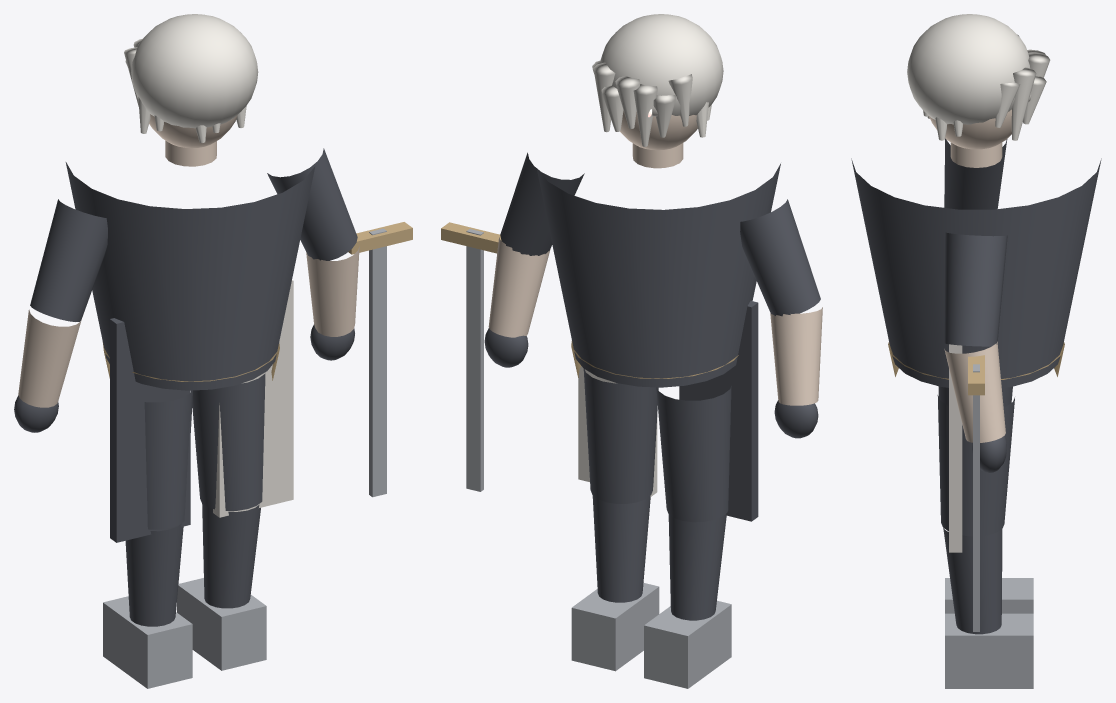
Rendered from achero-procedural-v1.glb.
The picture shows the model from 3 angles, left to right: view 1: azimuth 30°, elevation 25°; view 2: azimuth 150°, elevation 25°; view 3: azimuth 270°, elevation 25°; orthographic projection. The views are drawn at different scales.
Parts seen in each view (by area): view 1: Outfit_Torso, Hair_Cap, Outfit_CoatTail_L, Body_Thigh_R, Body_UpperArm_L, Outfit_CoatTail_R, Outfit_Boot_L, Body_Thigh_L, Outfit_Boot_R, Body_Shin_R, Body_Shin_L, Weapon_SwordBlade (+8 smaller); view 2: Outfit_Torso, Body_Thigh_L, Body_Thigh_R, Hair_Cap, Outfit_CoatTail_L, Body_UpperArm_L, Outfit_Boot_L, Outfit_Boot_R, Body_Shin_R, Body_Shin_L, Weapon_SwordBlade, Body_Forearm_L (+14 smaller); view 3: Outfit_Torso, Hair_Cap, Body_UpperArm_R, Outfit_Boot_R, Body_Thigh_R, Body_Shin_R, Body_Forearm_R, Body_UpperArm_L, Outfit_CoatTail_R, Weapon_SwordBlade, Body_Head, Outfit_Boot_L (+8 smaller).
Part boxes in pixels (left/top/right/bottom): Outfit_Torso: left=65, top=162, right=315, bottom=390; Hair_Cap: left=131, top=14, right=258, bottom=128; Outfit_CoatTail_L: left=110, top=318, right=190, bottom=542; Body_Thigh_R: left=191, top=373, right=265, bottom=510; Body_UpperArm_L: left=30, top=199, right=107, bottom=321; Outfit_CoatTail_R: left=213, top=280, right=293, bottom=517; Outfit_Boot_L: left=103, top=596, right=192, bottom=688; Body_Thigh_L: left=144, top=390, right=192, bottom=529; Outfit_Boot_R: left=177, top=578, right=266, bottom=670; Body_Shin_R: left=202, top=503, right=260, bottom=608; Body_Shin_L: left=125, top=523, right=183, bottom=626; Weapon_SwordBlade: left=369, top=228, right=386, bottom=497; Outfit_Torso: left=536, top=163, right=780, bottom=387; Body_Thigh_L: left=656, top=386, right=731, bottom=522; Body_Thigh_R: left=583, top=369, right=658, bottom=503; Hair_Cap: left=600, top=14, right=723, bottom=115; Outfit_CoatTail_L: left=679, top=301, right=758, bottom=521; Body_UpperArm_L: left=740, top=199, right=820, bottom=316; Outfit_Boot_L: left=644, top=600, right=731, bottom=688; Outfit_Boot_R: left=571, top=583, right=659, bottom=671; Body_Shin_R: left=592, top=495, right=650, bottom=602; Body_Shin_L: left=668, top=514, right=726, bottom=620; Weapon_SwordBlade: left=466, top=229, right=483, bottom=491; Body_Forearm_L: left=770, top=307, right=822, bottom=405; Outfit_Torso: left=851, top=158, right=1101, bottom=387; Hair_Cap: left=907, top=14, right=1030, bottom=124; Body_UpperArm_R: left=944, top=232, right=1007, bottom=346; Outfit_Boot_R: left=945, top=613, right=1033, bottom=688; Body_Thigh_R: left=937, top=395, right=1014, bottom=536; Body_Shin_R: left=943, top=528, right=1002, bottom=634; Body_Forearm_R: left=944, top=341, right=1005, bottom=442; Body_UpperArm_L: left=944, top=138, right=1007, bottom=209; Outfit_CoatTail_R: left=949, top=344, right=962, bottom=552; Weapon_SwordBlade: left=973, top=364, right=979, bottom=631; Body_Head: left=929, top=109, right=1011, bottom=149; Outfit_Boot_L: left=945, top=578, right=1033, bottom=613.
Bounding box in the file's own units: 1.17 × 1.87 × 0.6647.
